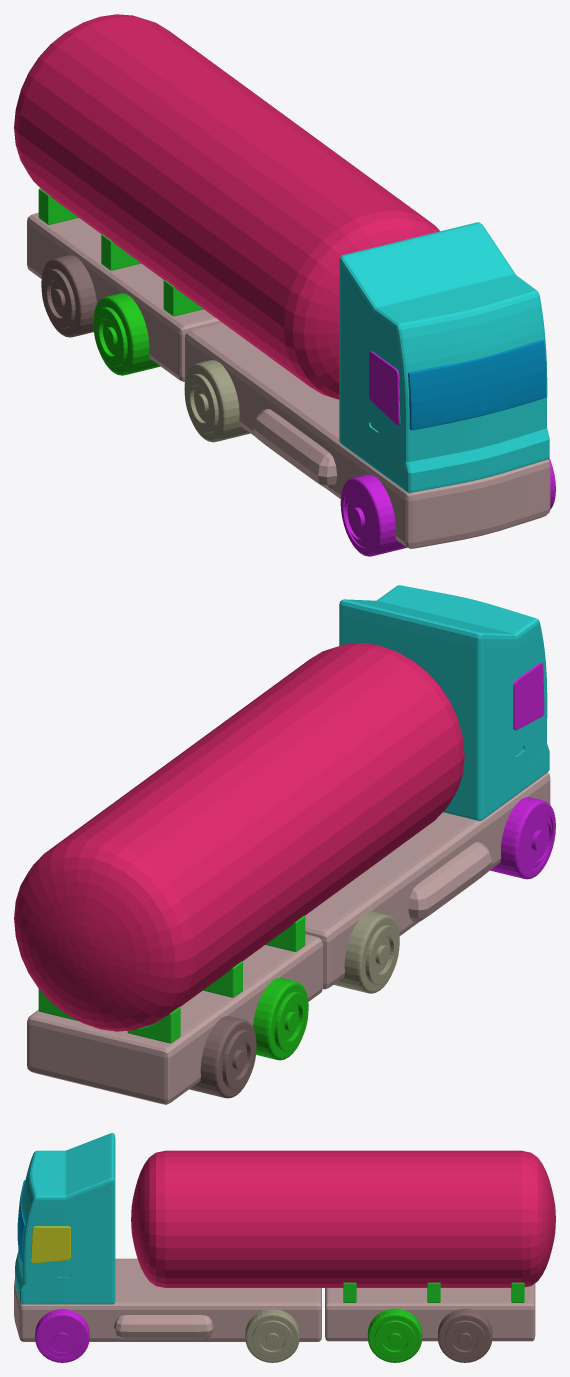
3 views of the same model, one above another, from view 1: azimuth 30°, elevation 25°; view 2: azimuth 150°, elevation 25°; view 3: azimuth 270°, elevation 25° (orthographic). The views are drawn at different scales.
Visible parts, largest first — view 1: world; view 2: world; view 3: world.
Part boxes in pixels (left/top/right/bottom): world: left=14, top=14, right=555, bottom=556; world: left=14, top=585, right=555, bottom=1104; world: left=14, top=1133, right=555, bottom=1362.
Bounding box in the file's own units: 0.2662 × 0.3648 × 1.
